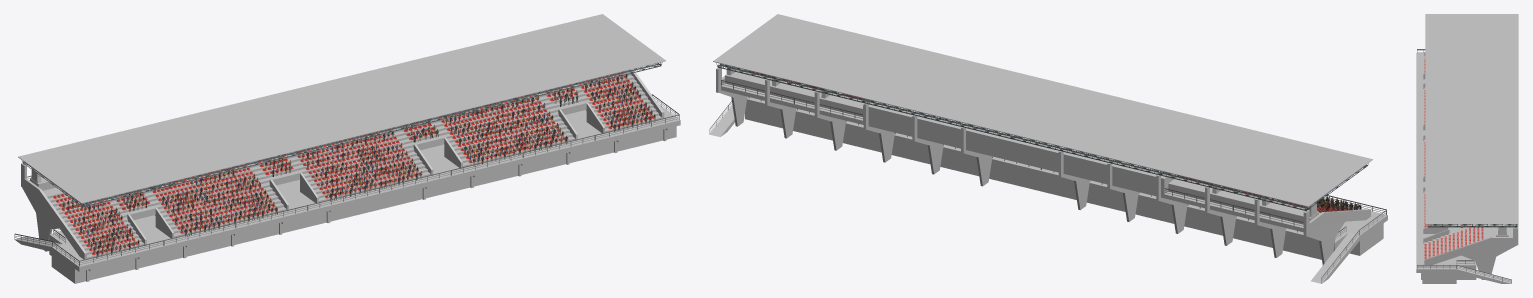
Rendered from GrandStand-04-L.fbx.
3 renders of one model, left to right at view 1: azimuth 30°, elevation 25°; view 2: azimuth 150°, elevation 25°; view 3: azimuth 270°, elevation 25°, orthographic. The views are drawn at different scales.
Parts seen in each view (by area): view 1: GrandStand-04-L, Audience; view 2: GrandStand-04-L; view 3: GrandStand-04-L.
Boxes of the visible parts, x1,y1,x2,y2 form: GrandStand-04-L: (14, 14, 680, 283); Audience: (62, 73, 655, 258); GrandStand-04-L: (709, 14, 1387, 283); GrandStand-04-L: (1416, 14, 1518, 283).
Size of the model in its own units: 12560 by 1544 by 2517.
